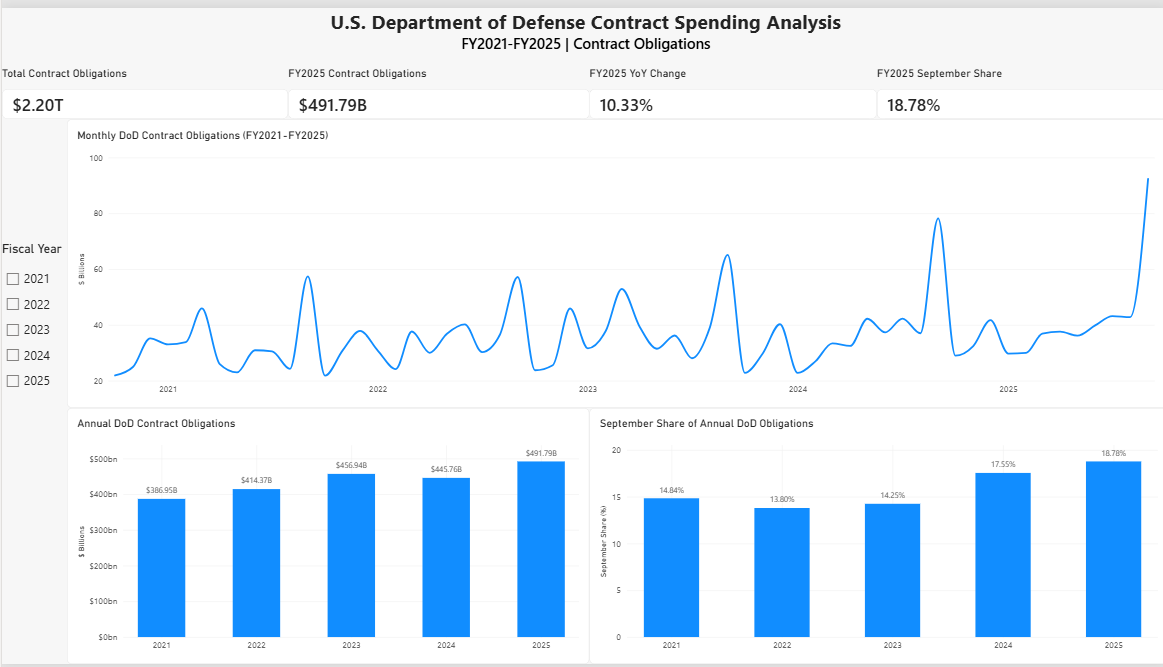

The dashboard page shown, as its layout file describes it:
{"tool":"powerbi","page":{"name":"Page 1","canvas":[1920,1080],"ordinal":0},"visuals":[{"type":"lineChart","title":"Monthly DoD Contract Obligations (FY2021-FY2025)","fields":{"Category":["powerbi_monthly_contracts.date.Variation.Date Hierarchy.Year","powerbi_monthly_contracts.date.Variation.Date Hierarchy.Month"],"Y":["Sum(powerbi_monthly_contracts.obligations_billions)"]},"box":[107,183.2,1813.4,475.5],"z":0},{"type":"cardVisual","title":"Total Contract Obligations","fields":{"Data":["powerbi_monthly_contracts.Total Contract Obligations"]},"box":[0,96.7,471.4,86.4],"z":1},{"type":"cardVisual","title":"FY2025 Contract Obligations","fields":{"Data":["powerbi_monthly_contracts.FY2025 Contract Obligations"]},"box":[471.4,96.7,496.1,86.4],"z":2},{"type":"cardVisual","title":"FY2025 YoY Change","fields":{"Data":["powerbi_monthly_contracts.FY2025 YoY Change"]},"box":[967.4,96.7,473.4,86.4],"z":3},{"type":"cardVisual","title":"FY2025 September Share","fields":{"Data":["powerbi_monthly_contracts.FY2025 September Share"]},"box":[1440.8,96.7,479.6,86.4],"z":4},{"type":"clusteredColumnChart","title":"Annual DoD Contract Obligations","fields":{"Category":["powerbi_monthly_contracts.fiscal_year"],"Y":["Max(powerbi_monthly_contracts.fiscal_year_total)"]},"box":[107,658.7,860.4,422],"z":5},{"type":"clusteredColumnChart","title":"September Share of Annual DoD Obligations","fields":{"Category":["powerbi_monthly_contracts.fiscal_year"],"Y":["Sum(powerbi_monthly_contracts.fiscal_year_share_pct)"]},"box":[967.4,658.7,953,422],"z":6},{"type":"slicer","title":"Fiscal Year","fields":{"Values":["powerbi_monthly_contracts.fiscal_year"]},"box":[0,384.9,107,695.7],"z":7},{"type":"textbox","box":[395.2,0,1132.1,96.7],"z":8}]}

Visuals, with their boxes in screenshot pixels (x1, y1, x2, y2), scaled from the page's 1920x1080 canvas onto the 1163x667 screenshot:
"Monthly DoD Contract Obligations (FY2021-FY2025)" lineChart: left=65, top=113, right=1162, bottom=407
"Total Contract Obligations" cardVisual: left=0, top=60, right=286, bottom=113
"FY2025 Contract Obligations" cardVisual: left=286, top=60, right=586, bottom=113
"FY2025 YoY Change" cardVisual: left=586, top=60, right=873, bottom=113
"FY2025 September Share" cardVisual: left=873, top=60, right=1162, bottom=113
"Annual DoD Contract Obligations" clusteredColumnChart: left=65, top=407, right=586, bottom=666
"September Share of Annual DoD Obligations" clusteredColumnChart: left=586, top=407, right=1162, bottom=666
"Fiscal Year" slicer: left=0, top=238, right=65, bottom=666
textbox: left=239, top=0, right=925, bottom=60
